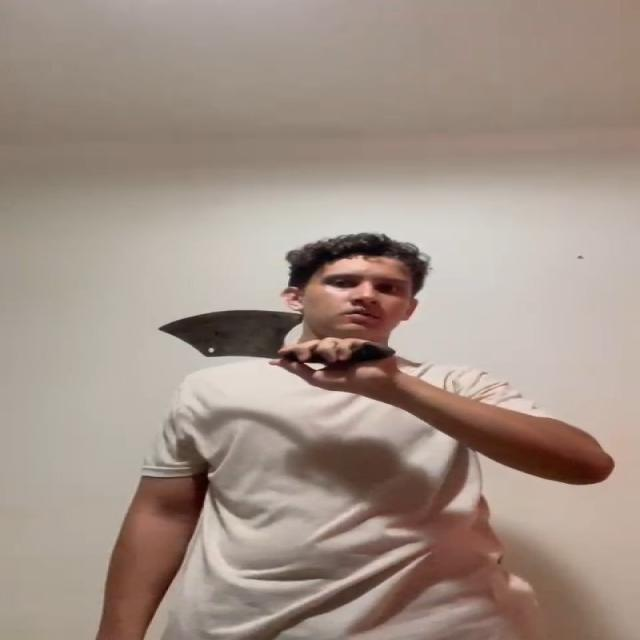knife: (153, 308, 302, 359)
